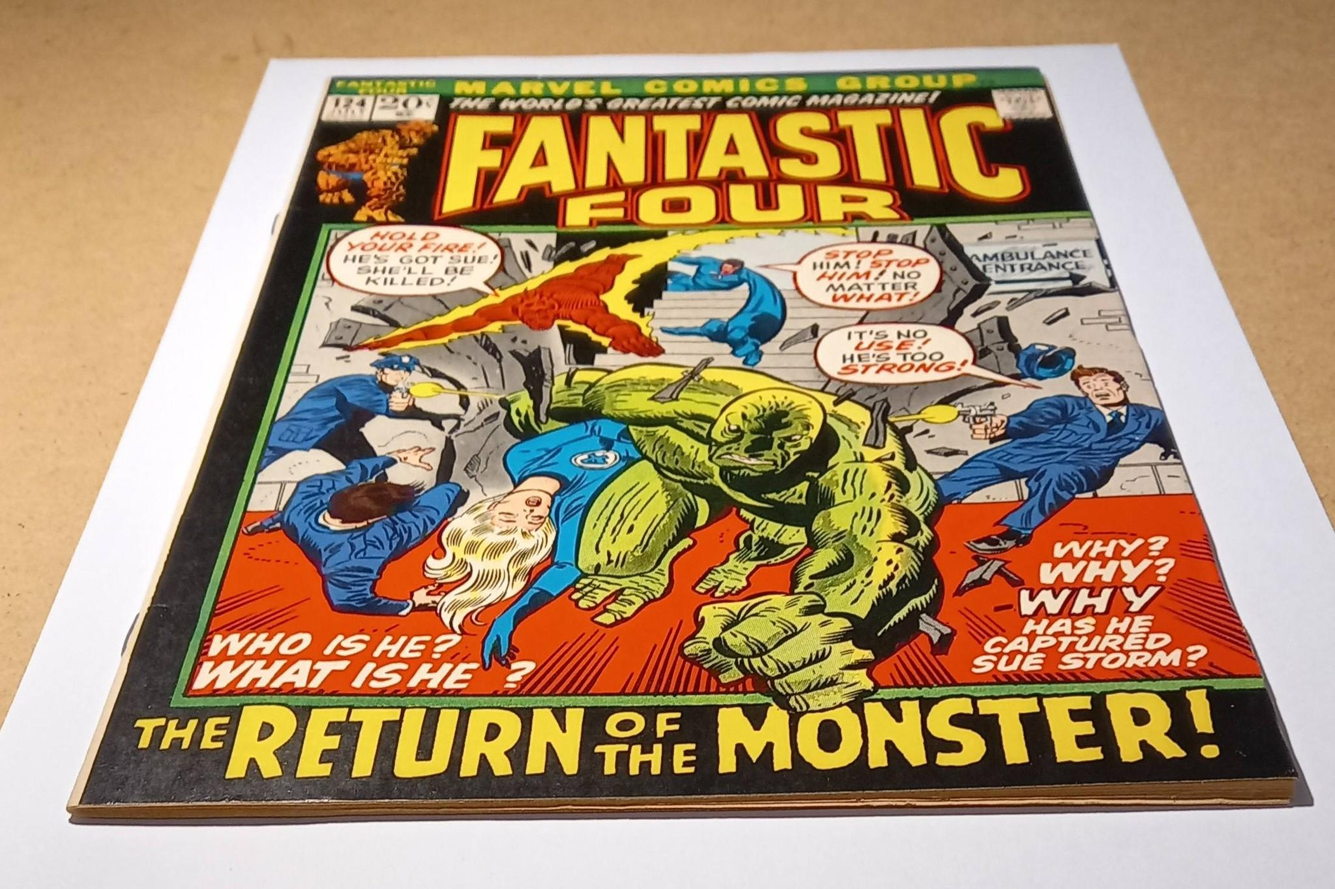comic: (61, 65, 1294, 819)
